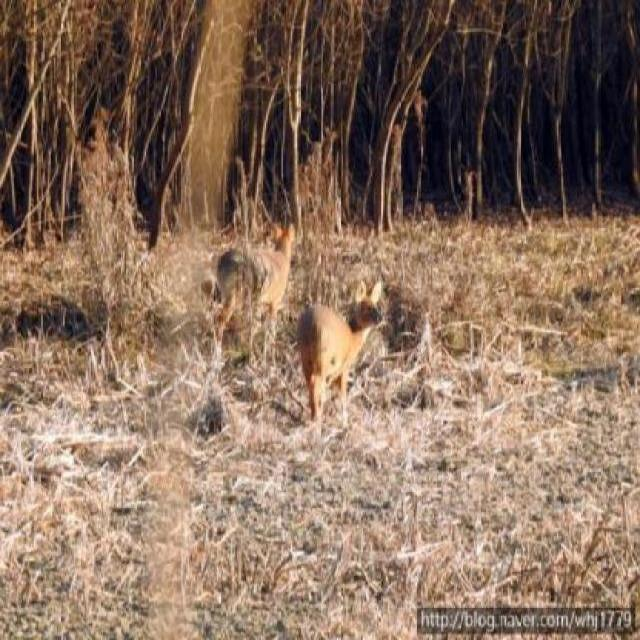deer: (294, 274, 392, 430)
